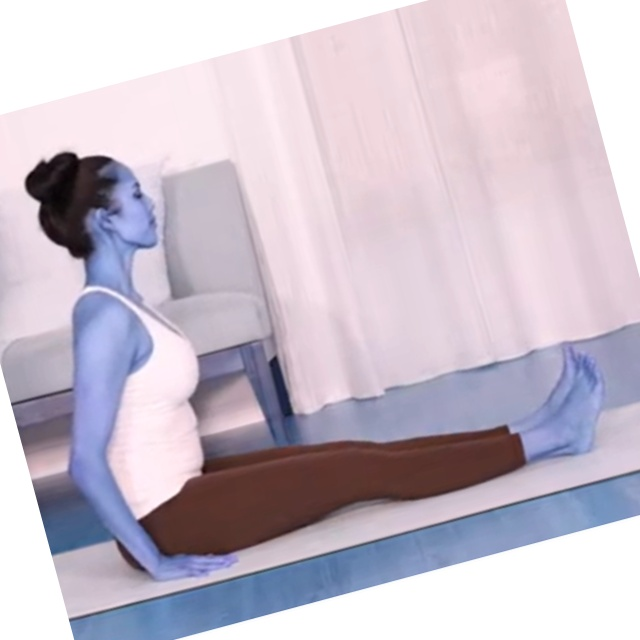Staff_Pose: (33, 146, 611, 584)
